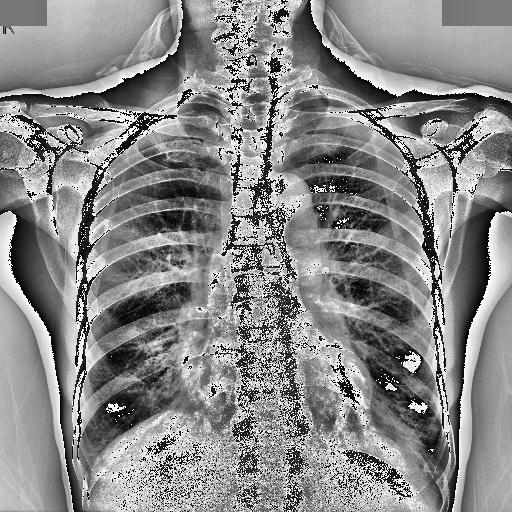0- Aortic enlargement: (263, 174, 320, 238), (270, 173, 312, 219)
13- Pulmonary fibrosis: (124, 324, 192, 410), (380, 391, 438, 451)
6- Infiltration: (370, 383, 441, 456), (381, 386, 440, 470)
8- Nodule-Mass: (128, 328, 138, 338)
9- Other lesion: (124, 324, 192, 410), (380, 391, 438, 451)
